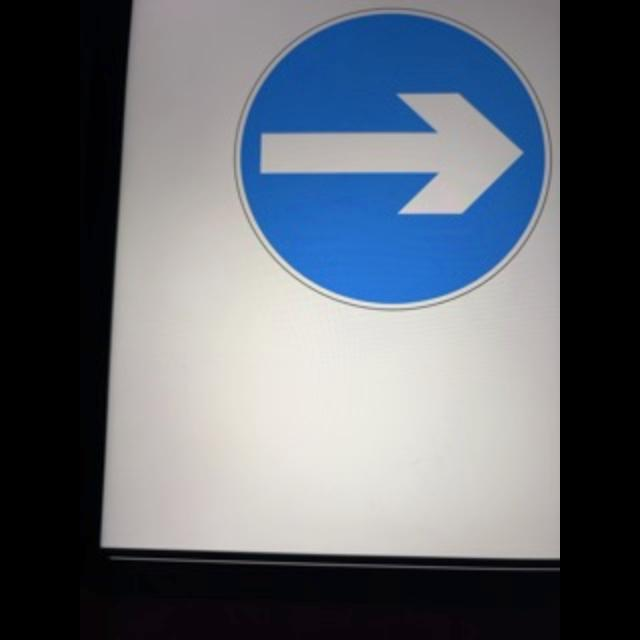TURN RIGHT: (230, 6, 554, 312)
